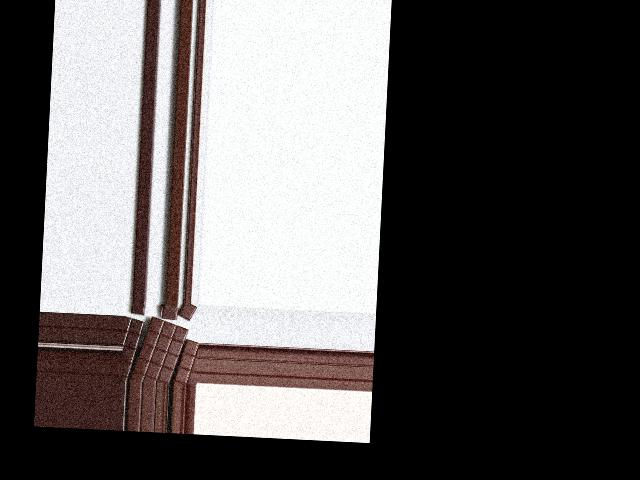chocolate: (131, 316, 190, 385)
